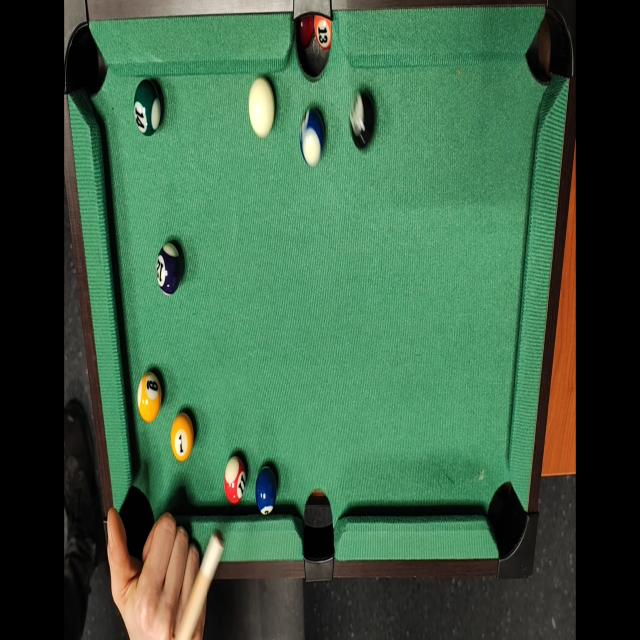cue ball: (246, 72, 276, 140)
other: (133, 74, 165, 138), (298, 103, 326, 175), (347, 86, 376, 151), (155, 239, 184, 298), (137, 364, 162, 428), (222, 452, 247, 509), (168, 407, 194, 461), (254, 470, 276, 519)
